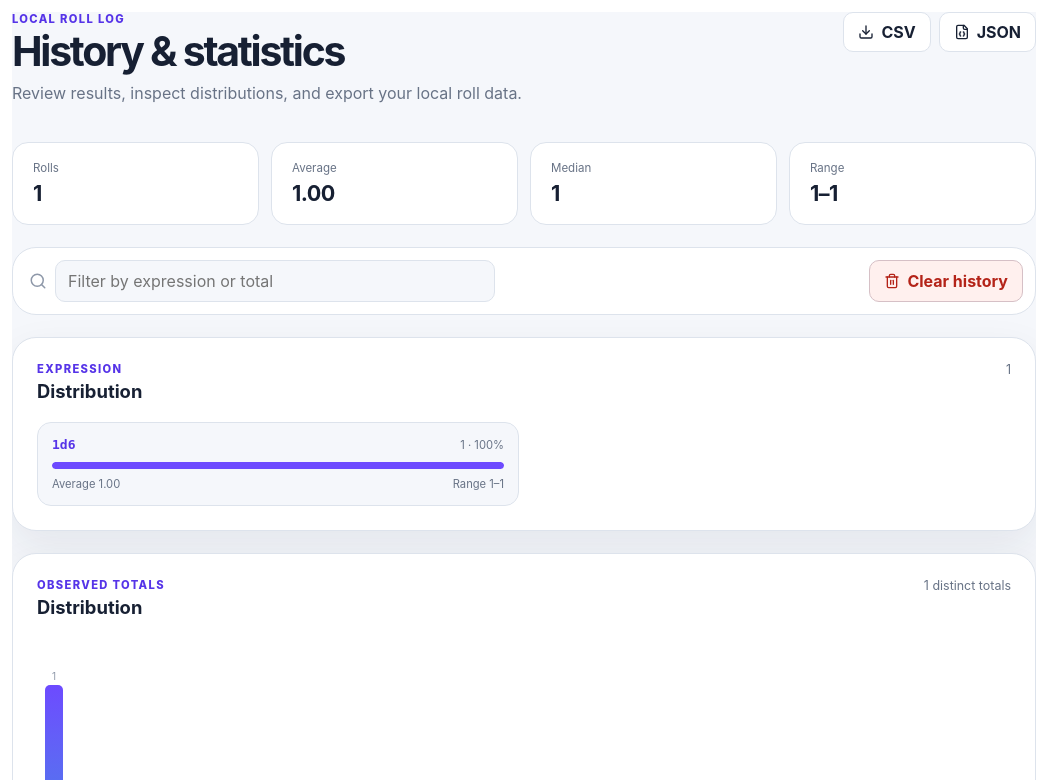
Test case: HistoryPanel performance behavior › reports export failures without exposing thrown details
Click the button "JSON" at (987, 32), box top-left (939, 12), bottom-right (1036, 52)
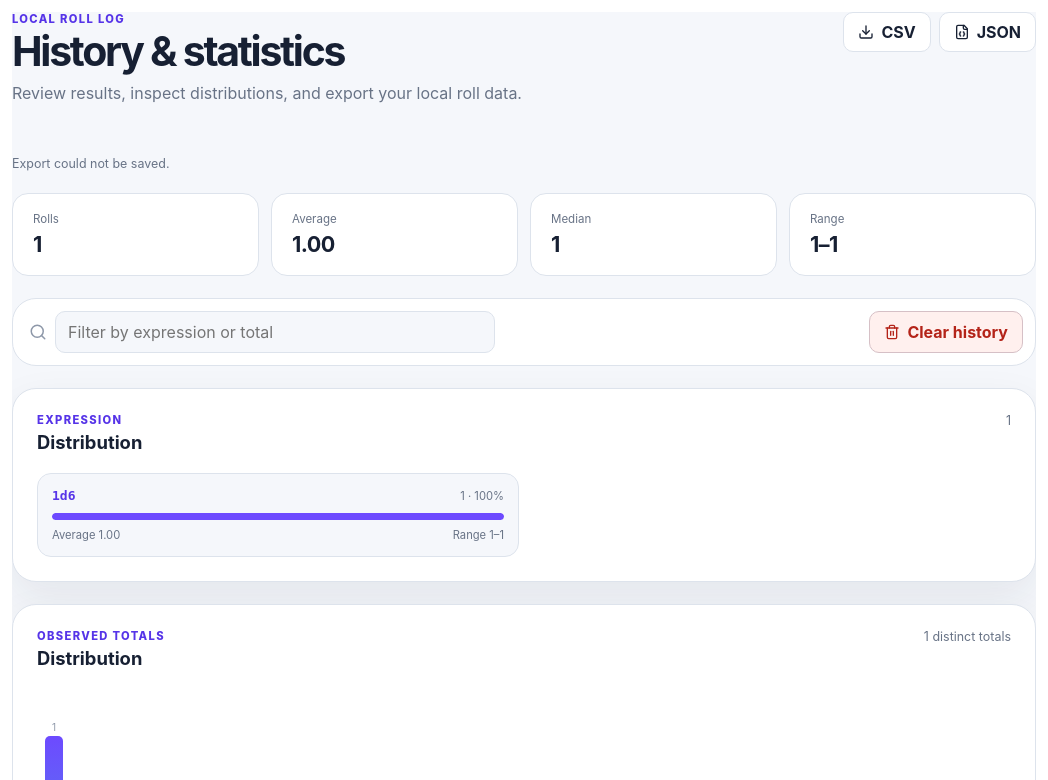
Expected: the message reads "Export could not be saved.", top-left (12, 156), bottom-right (170, 171)
